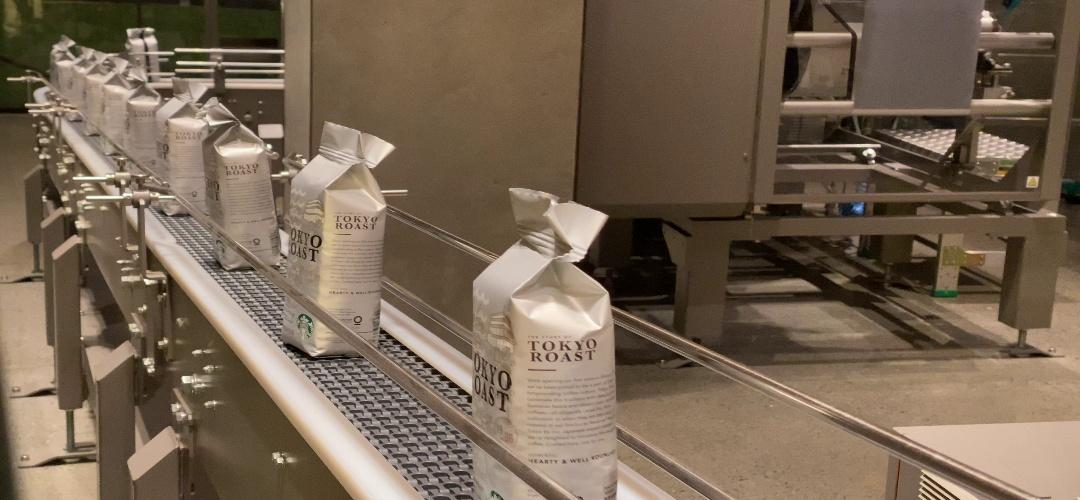conveyor: (470, 282, 619, 432), (288, 182, 384, 283), (202, 140, 274, 218)
